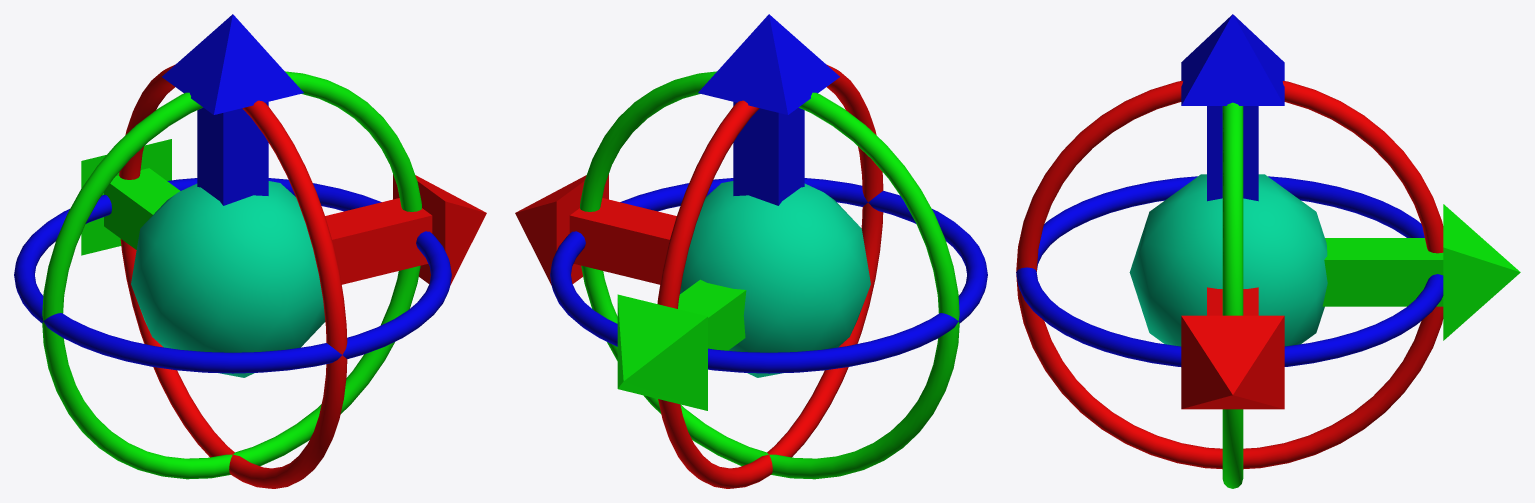
The picture shows the model from 3 angles, left to right: view 1: azimuth 30°, elevation 25°; view 2: azimuth 150°, elevation 25°; view 3: azimuth 270°, elevation 25°; orthographic projection.
Visible parts, largest first — view 1: Node Core, y ring, x ring, z ring, head, shaft.002, shaft, head.002, shaft.001, head.001; view 2: Node Core, y ring, x ring, z ring, head.001, head, shaft.002, shaft, head.002, shaft.001; view 3: x ring, Node Core, z ring, head.002, shaft.001, head, y ring, head.001, shaft, shaft.002.
Boxes of the visible parts, x1,y1,x2,y2 form: Node Core: [131, 181, 325, 377]; y ring: [42, 71, 421, 479]; x ring: [119, 64, 347, 488]; z ring: [14, 178, 451, 373]; head: [162, 14, 303, 114]; shaft.002: [325, 198, 432, 284]; shaft: [197, 102, 268, 205]; head.002: [393, 174, 486, 285]; shaft.001: [104, 168, 180, 249]; head.001: [81, 139, 171, 255]; Node Core: [679, 181, 870, 377]; y ring: [580, 71, 959, 479]; x ring: [657, 64, 883, 488]; z ring: [550, 178, 987, 373]; head.001: [617, 294, 707, 410]; head: [698, 14, 839, 114]; shaft.002: [569, 198, 676, 284]; shaft: [733, 102, 804, 205]; head.002: [515, 174, 608, 285]; shaft.001: [678, 279, 746, 350]; x ring: [1016, 81, 1443, 469]; Node Core: [1129, 174, 1327, 346]; z ring: [1016, 176, 1443, 366]; head.002: [1181, 315, 1284, 409]; shaft.001: [1322, 238, 1443, 306]; head: [1181, 14, 1284, 105]; y ring: [1222, 102, 1243, 488]; head.001: [1443, 204, 1520, 340]; shaft: [1207, 106, 1258, 201]; shaft.002: [1207, 287, 1258, 315].
Size of the model in its own units: 491 by 486 by 489.
